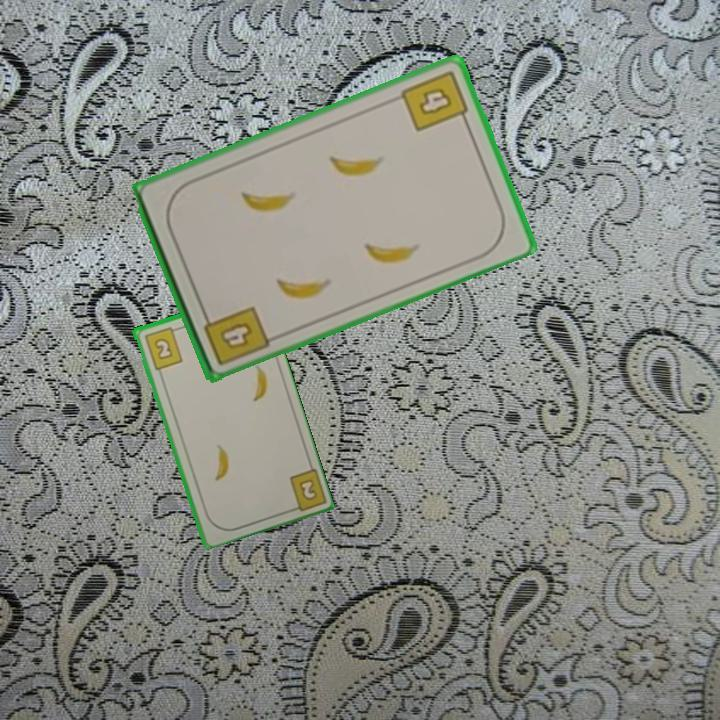2b: (284, 463, 327, 515), (141, 323, 185, 372)
4b: (397, 66, 472, 134), (199, 302, 272, 368)
